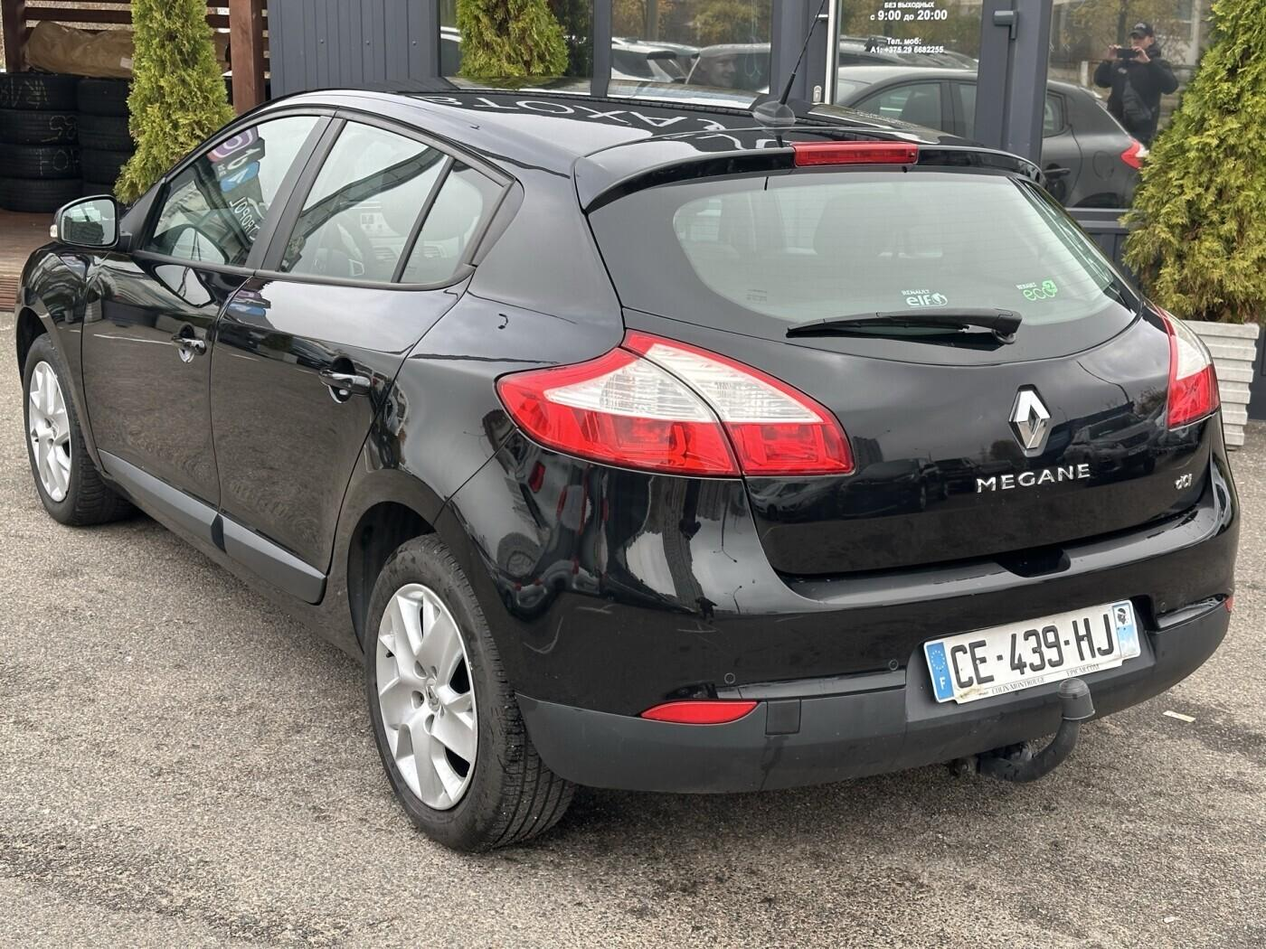Megane_2012-2014: (5, 75, 1251, 865)
